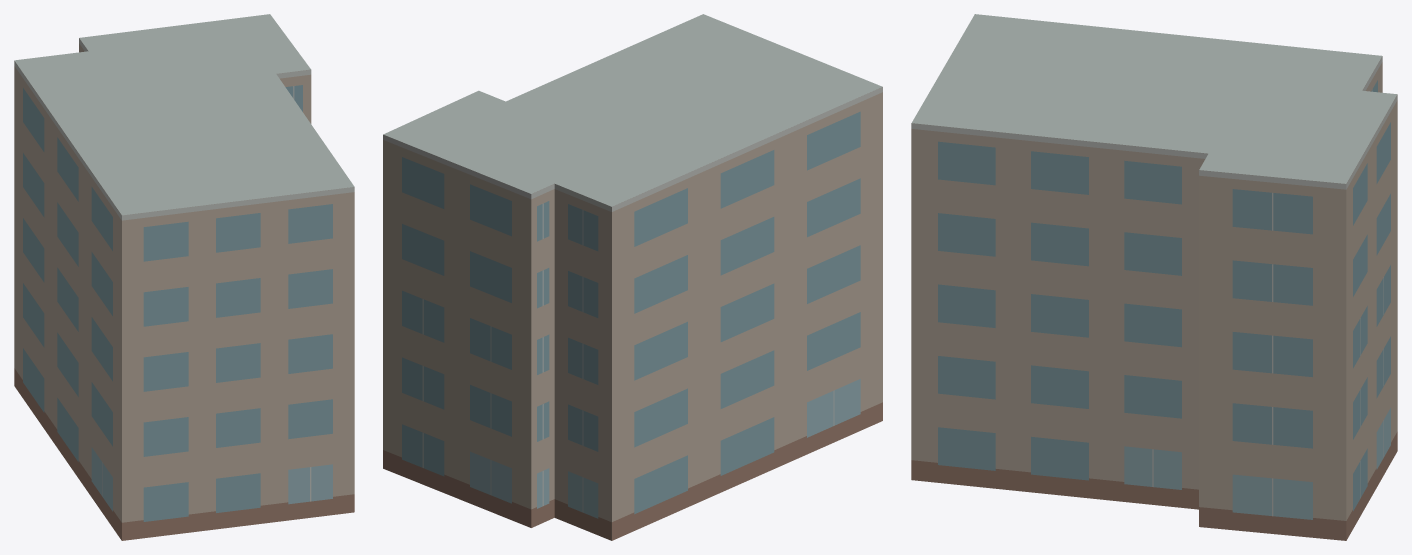
File: survey-upis-32872316.glb
The picture shows the model from 3 angles, left to right: view 1: azimuth 30°, elevation 25°; view 2: azimuth 150°, elevation 25°; view 3: azimuth 270°, elevation 25°; orthographic projection. The views are drawn at different scales.
Visible parts, largest first — view 1: survey-upis-32872316.tmp; view 2: survey-upis-32872316.tmp; view 3: survey-upis-32872316.tmp.
Part boxes in pixels (x1,y1,x2,y2): survey-upis-32872316.tmp: (14,14,354,540); survey-upis-32872316.tmp: (383,14,882,540); survey-upis-32872316.tmp: (911,14,1397,540).
Bounding box in the file's own units: 15.58 × 15.25 × 18.83.
